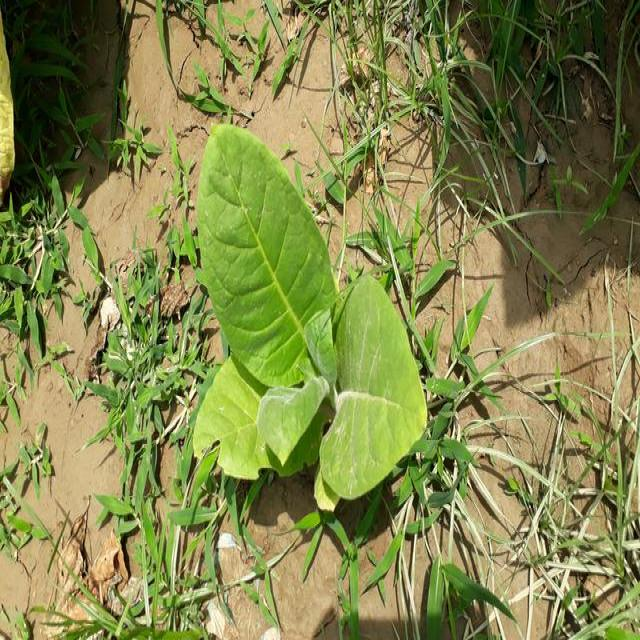crop: (186, 143, 430, 498)
